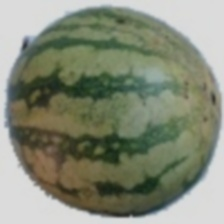watermelon: (16, 14, 177, 184)
